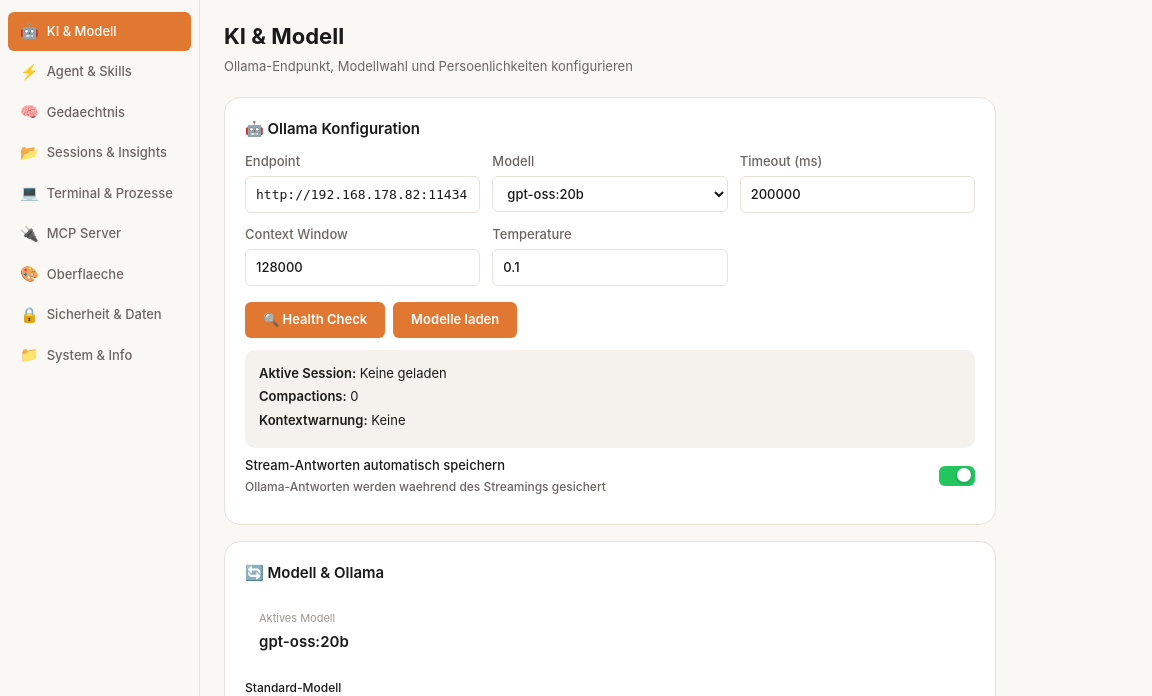
SettingsView › uses engine store health and model refresh on button click
Click the button "🔍 Health Check": (315,320) [245,302,385,338]
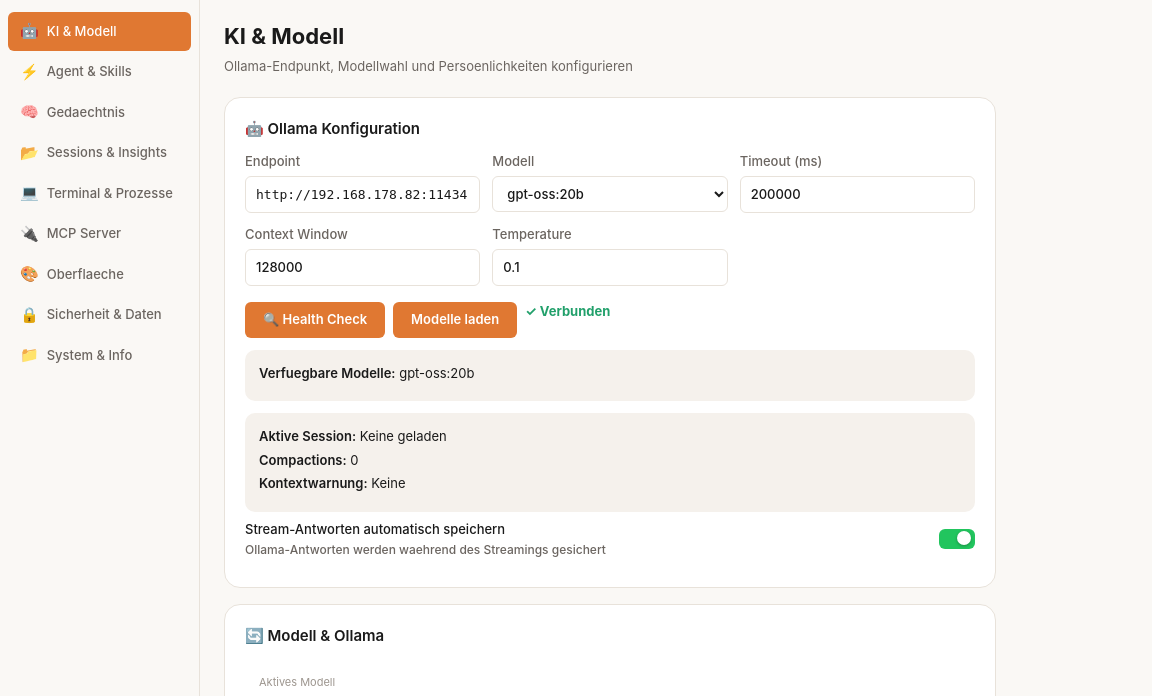
Result: the text "✓ Verbunden" is shown at [525,303,610,319]
